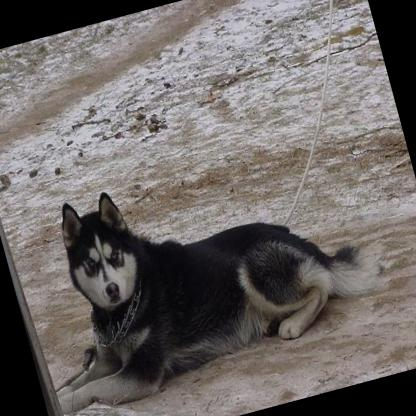Siberian_husky: (6, 125, 395, 416)
